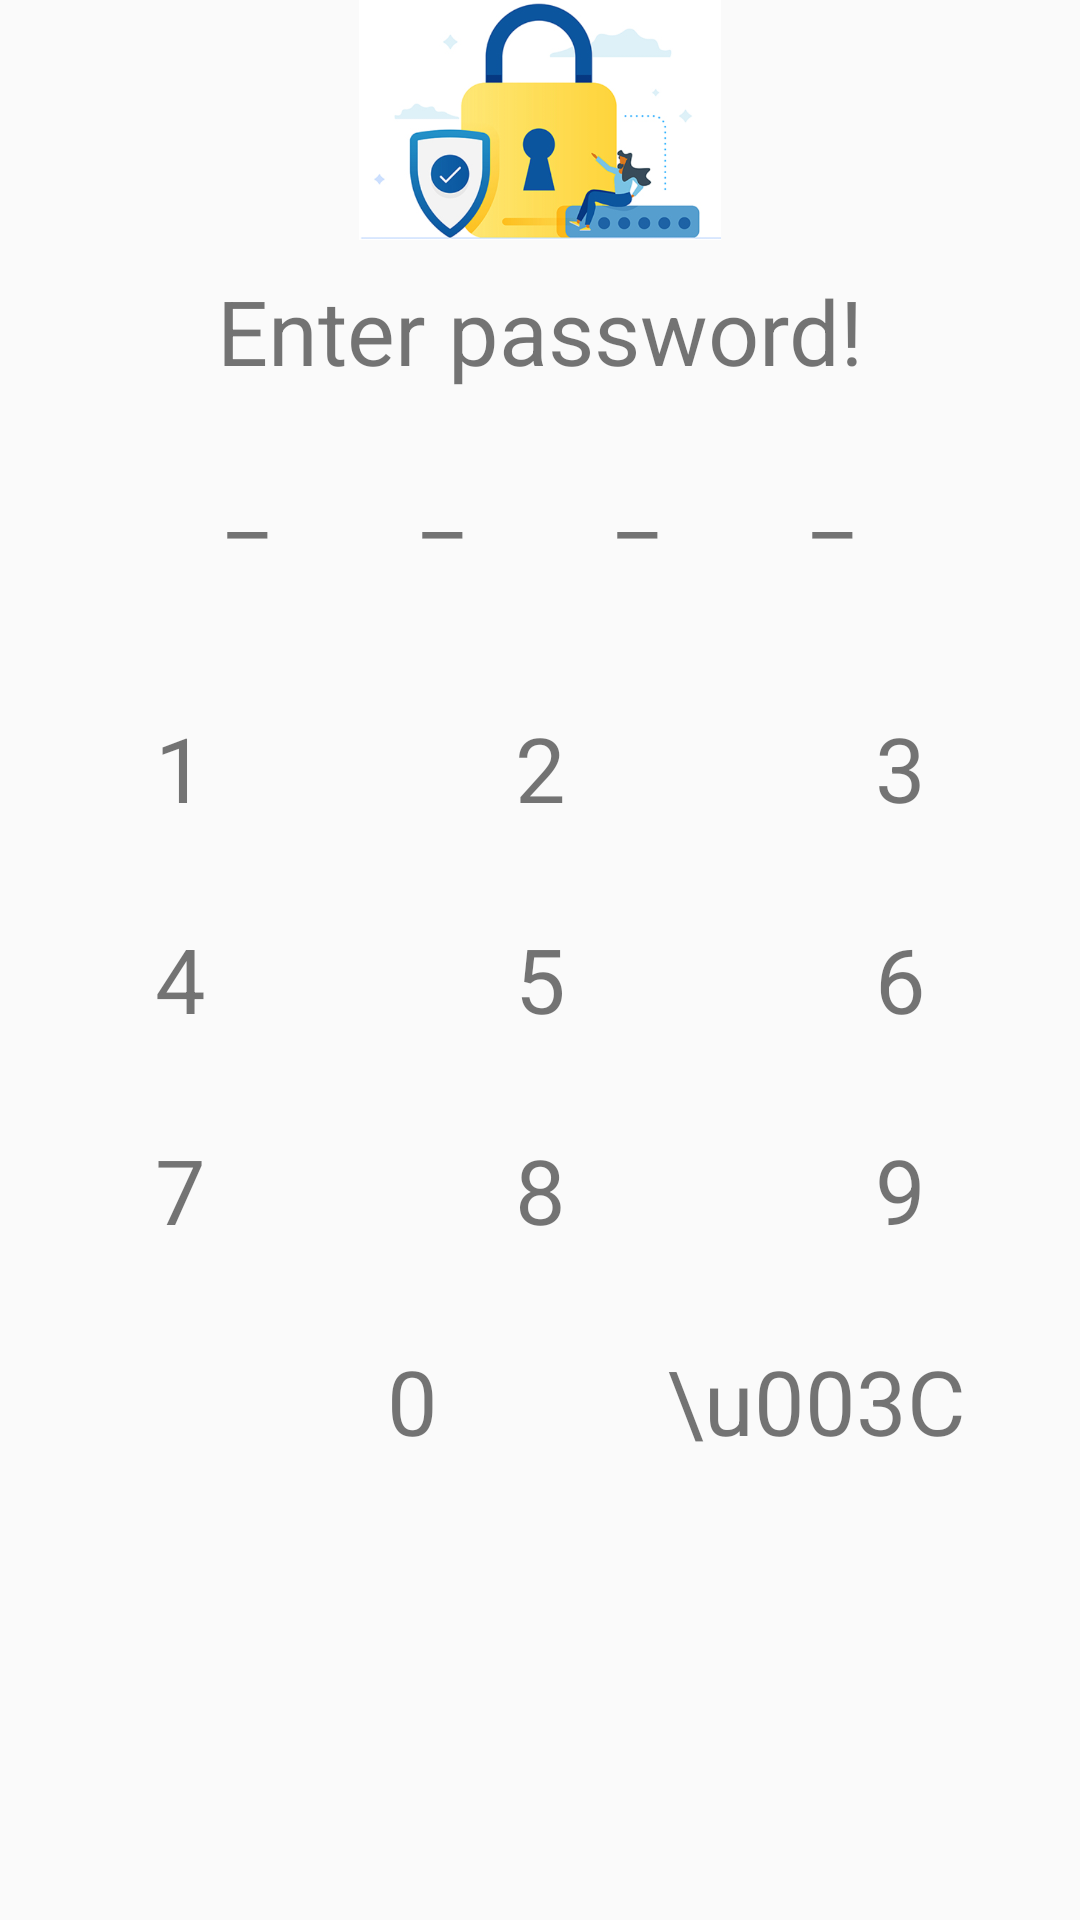

Icons on this 1080px×1920px Android screen, each with its box as (x1, y1, x2, y2):
lock: (361, 3, 721, 239)
